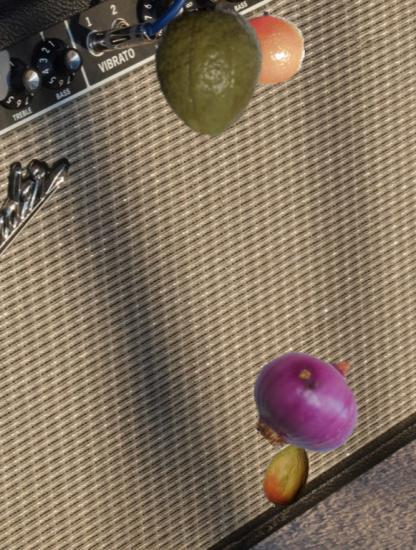Guava: (146, 7, 276, 137)
Onion: (251, 344, 366, 459)
Papaya: (253, 442, 320, 509)
Tangelo: (220, 6, 305, 91)
